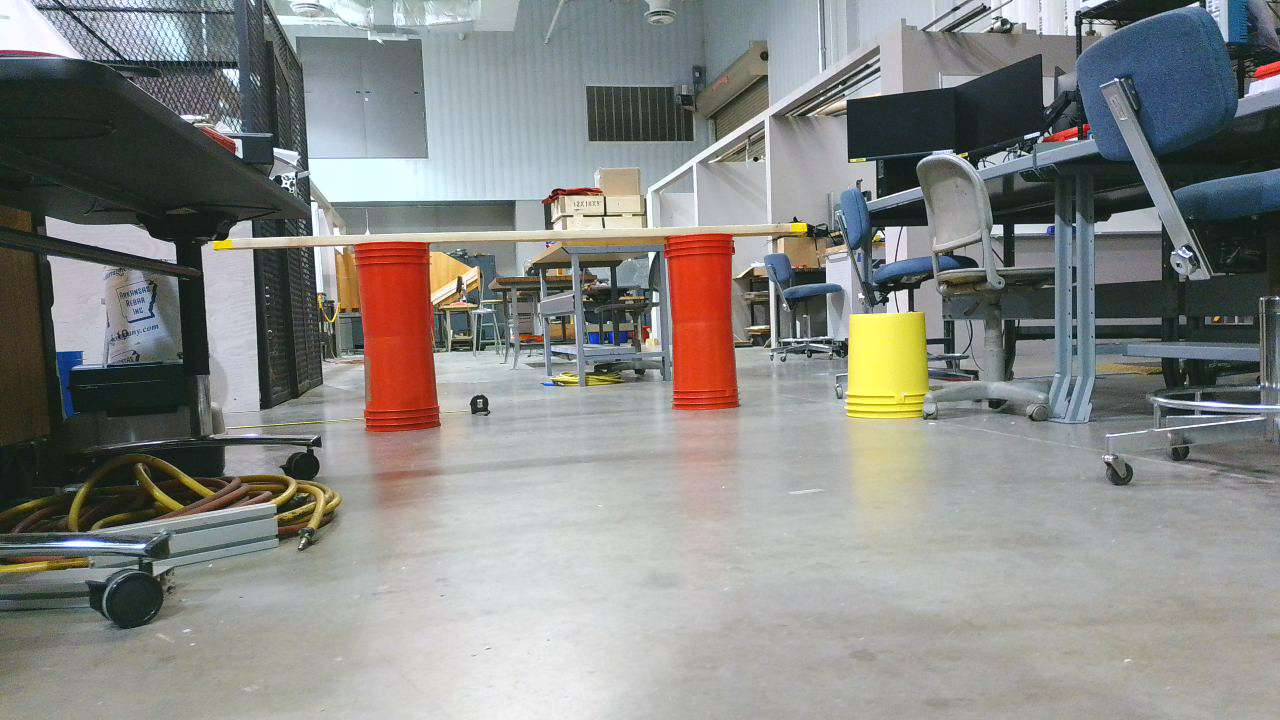red_bucket_arch: (351, 240, 761, 440)
yellow_bucket: (852, 318, 933, 425)
